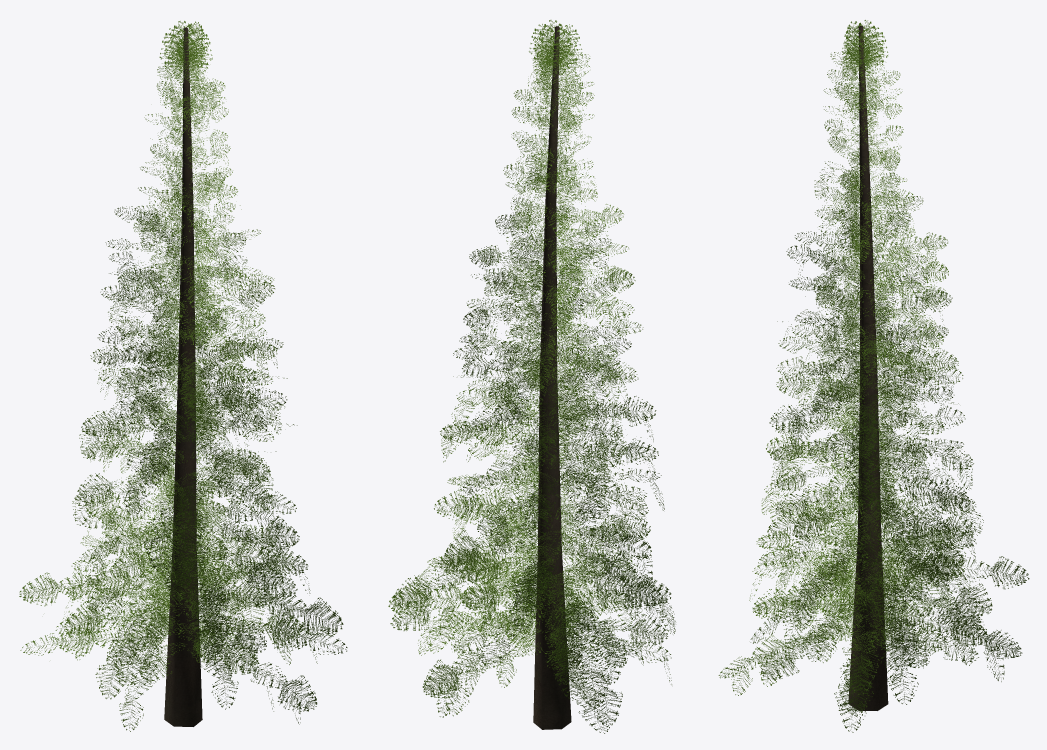
Rendered from larch_sparse_v02_LOD2.fbx.
3 views of the same model, side by side, from view 1: azimuth 30°, elevation 25°; view 2: azimuth 150°, elevation 25°; view 3: azimuth 270°, elevation 25° (orthographic). The views are drawn at different scales.
Visible parts, largest first — view 1: larch_sparse_v02_LOD2; view 2: larch_sparse_v02_LOD2; view 3: larch_sparse_v02_LOD2.
Part boxes in pixels (x1,y1,x2,y2): larch_sparse_v02_LOD2: (19, 21, 347, 731); larch_sparse_v02_LOD2: (388, 20, 675, 733); larch_sparse_v02_LOD2: (718, 20, 1029, 732).
Bounding box in the file's own units: 701 × 733 × 1721.
2 materials, 2 textured.
